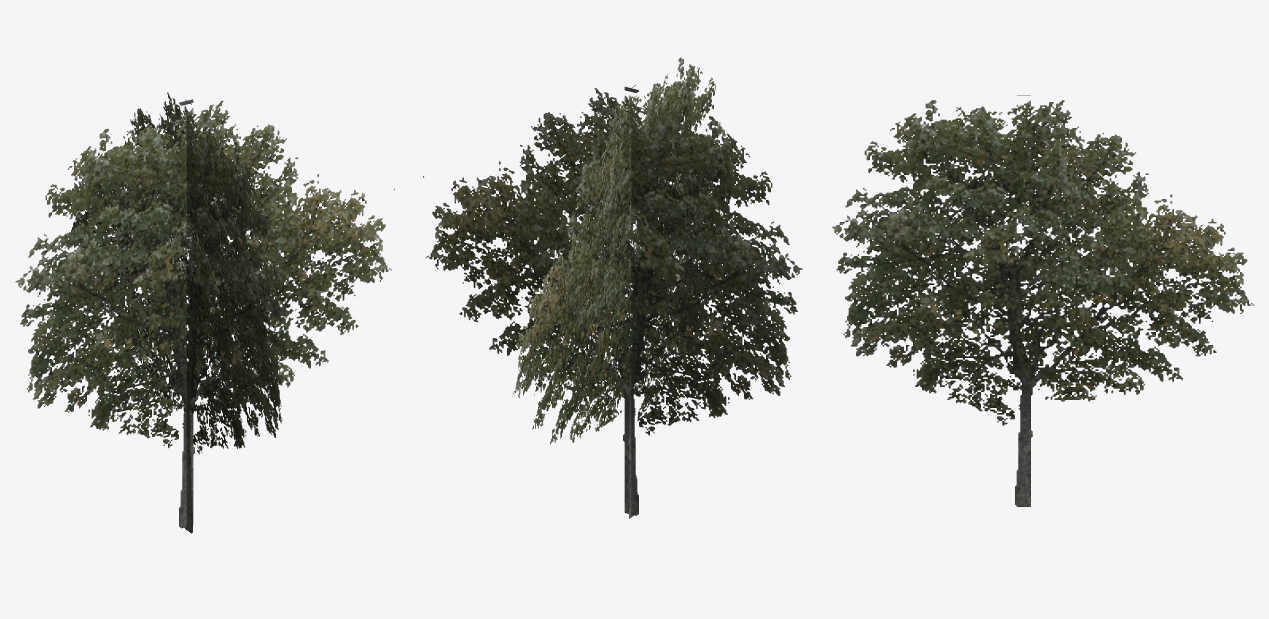
The model's file is Tree1.fbx.
The picture shows the model from 3 angles, left to right: view 1: azimuth 30°, elevation 25°; view 2: azimuth 150°, elevation 25°; view 3: azimuth 270°, elevation 25°; orthographic projection. The views are drawn at different scales.
Parts seen in each view (by area): view 1: Tree1; view 2: Tree1; view 3: Tree1.
Boxes of the visible parts, box(x1,y1,x2,y2) form: Tree1: box(15, 92, 394, 533); Tree1: box(423, 57, 802, 518); Tree1: box(832, 95, 1254, 506).
Bounding box in the file's own units: 1814 × 1956 × 1814.
